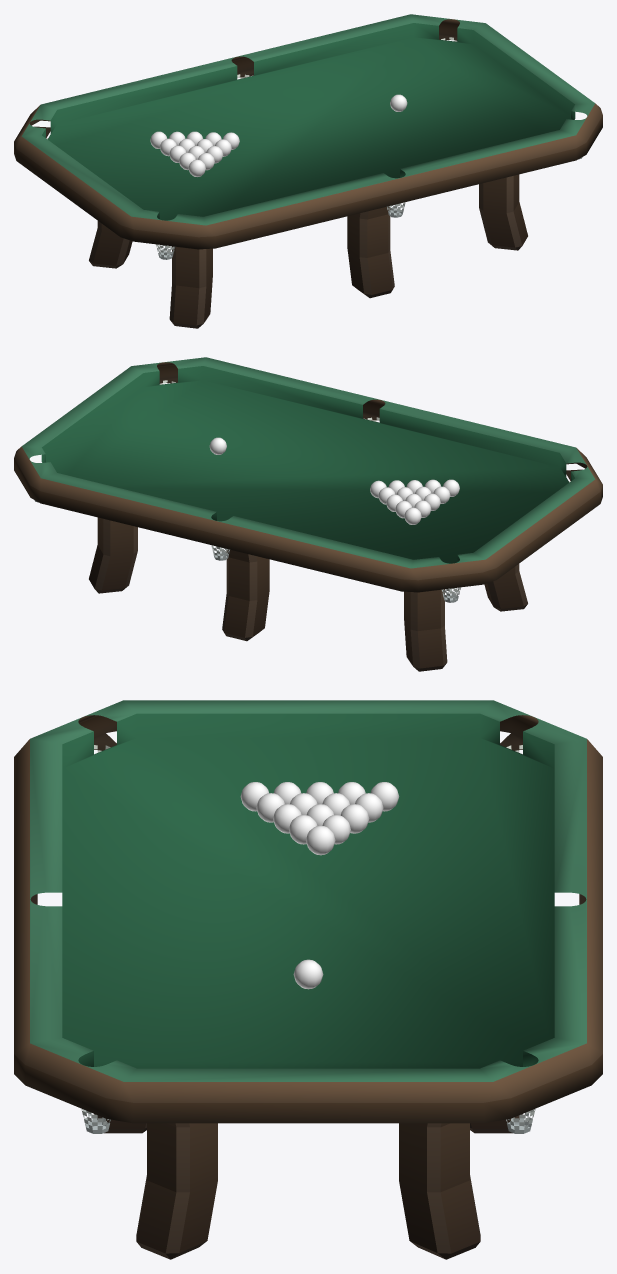
The model's file is billiardtable.fbx.
The picture shows the model from 3 angles, top to bottom: view 1: azimuth 30°, elevation 25°; view 2: azimuth 150°, elevation 25°; view 3: azimuth 270°, elevation 25°; orthographic projection. The views are drawn at different scales.
Visible parts, largest first — view 1: Cube.010; view 2: Cube.010; view 3: Cube.010.
Boxes of the visible parts, x1,y1,x2,y2 form: Cube.010: (14, 14, 602, 328); Cube.010: (14, 357, 602, 671); Cube.010: (14, 700, 602, 1259).
Bounding box in the file's own units: 293 × 79.37 × 185.
